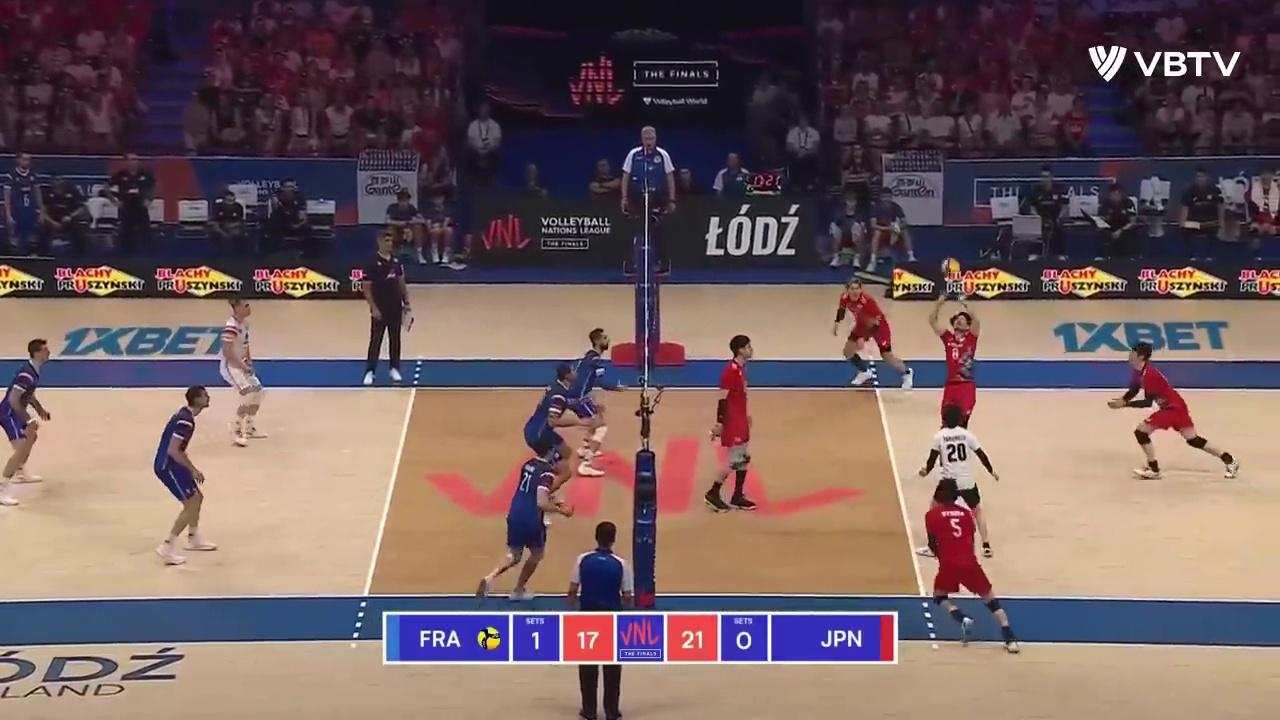ball: (942, 259, 960, 278)
